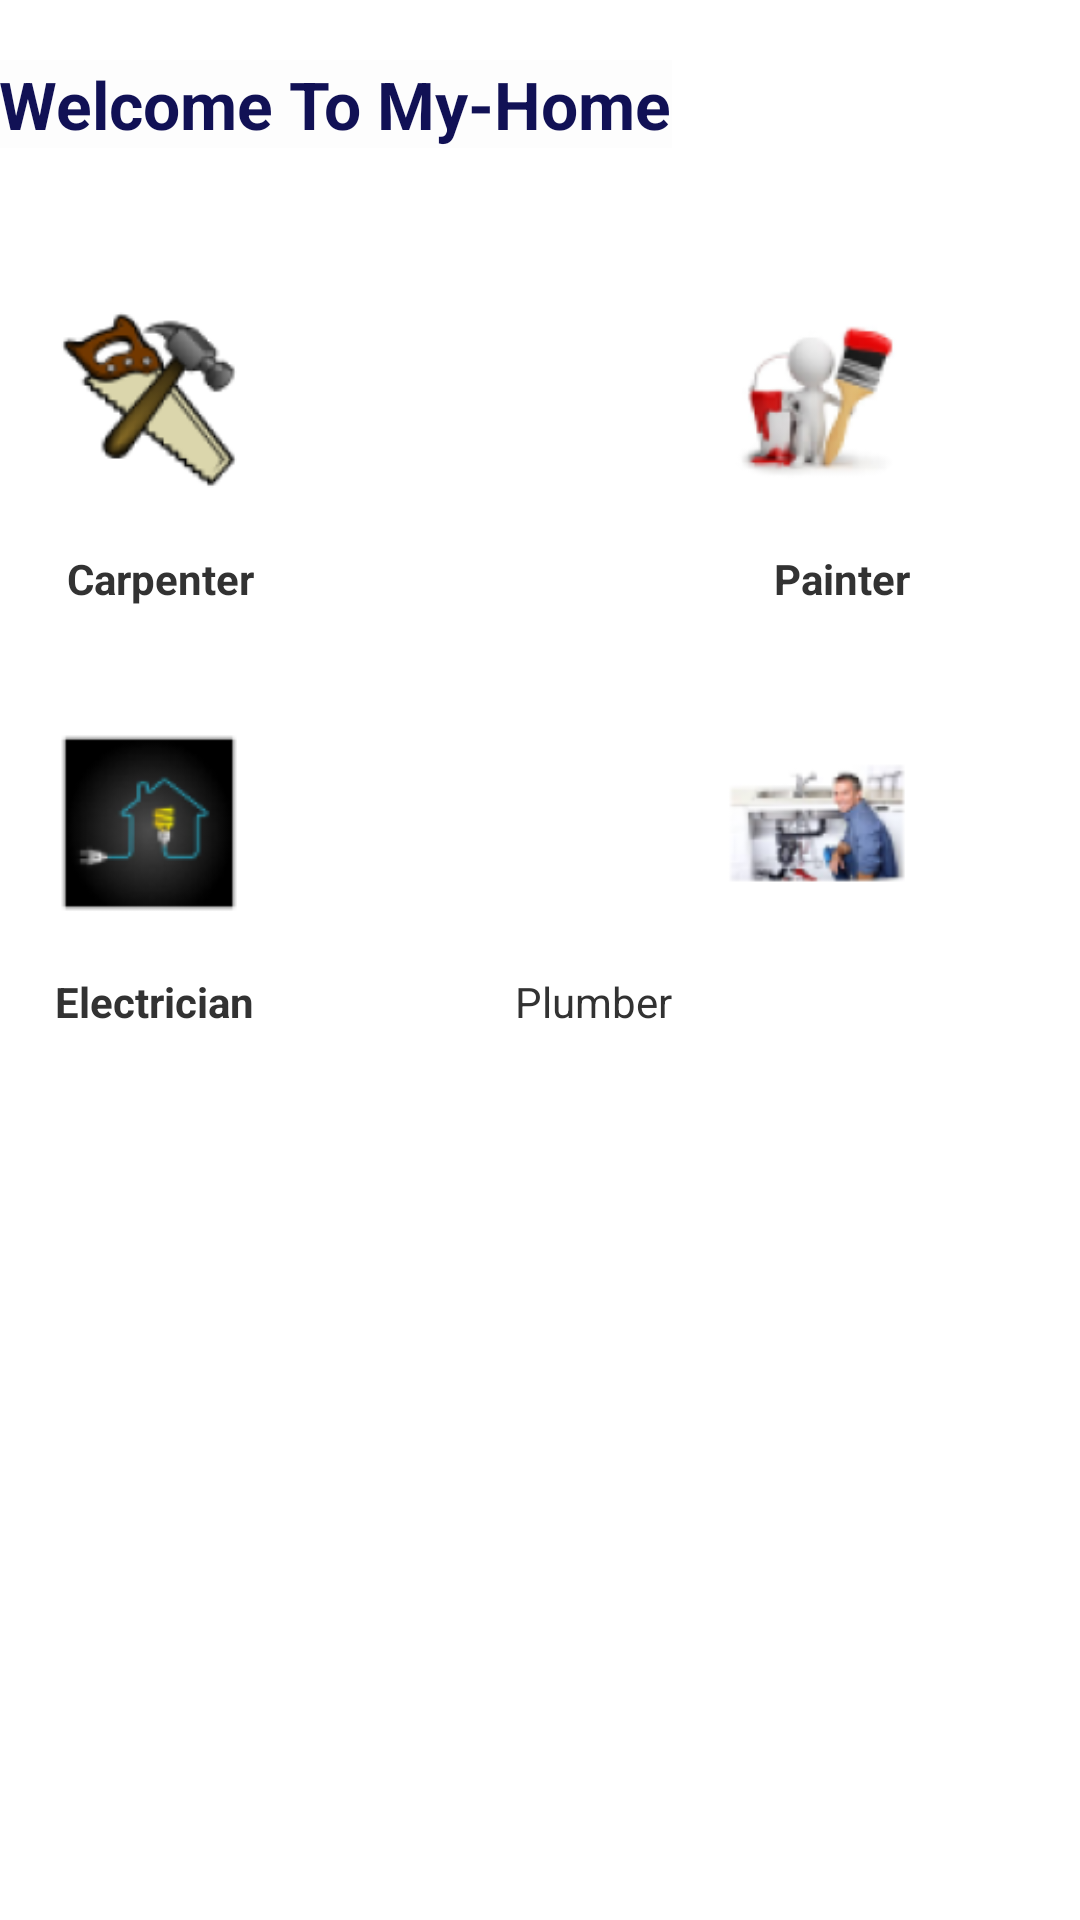

Screen size 1080px×1920px. Icon name, then its center in pixels as (x,y):
carimg: (149,400)
electimg: (149,823)
paintimg: (819,399)
